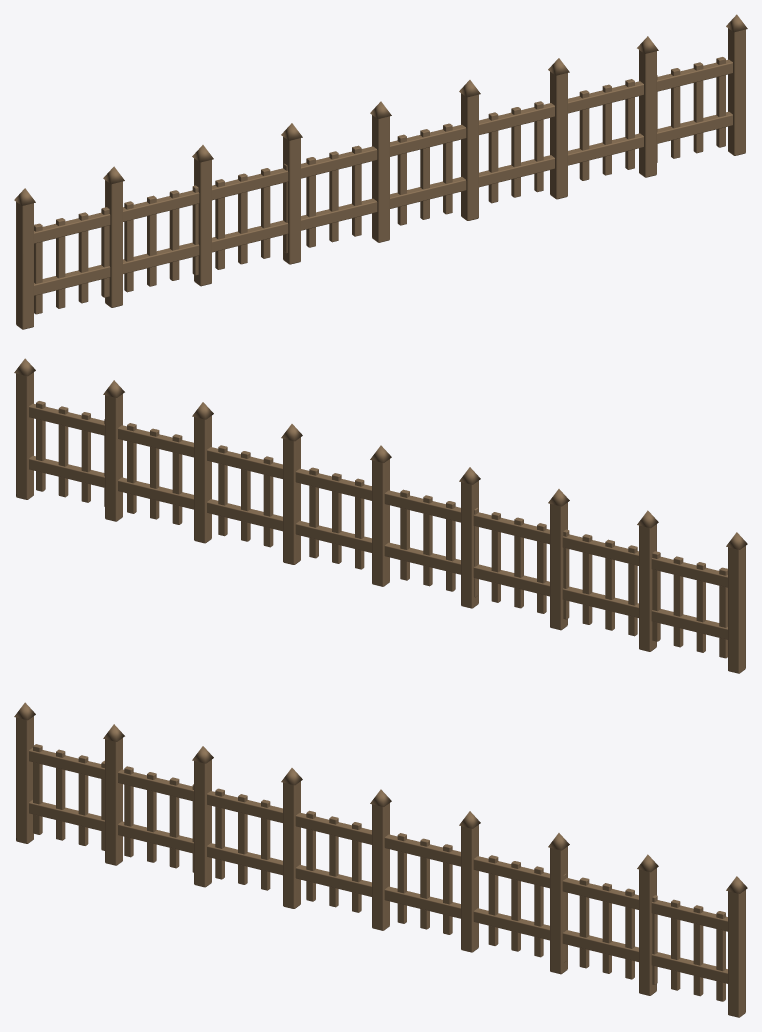
Rendered from Prop_Fence_10m_01_Detailed.fbx.
3 views of the same model, one above another, from view 1: azimuth 30°, elevation 25°; view 2: azimuth 150°, elevation 25°; view 3: azimuth 330°, elevation 25° (orthographic).
Visible parts, largest first — view 1: Prop_Fence_10m_01, Prop_Fence_10m_01_Rail_0.48, Prop_Fence_10m_01_Rail_1.18; view 2: Prop_Fence_10m_01, Prop_Fence_10m_01_Rail_0.48, Prop_Fence_10m_01_Rail_1.18; view 3: Prop_Fence_10m_01, Prop_Fence_10m_01_Rail_0.48, Prop_Fence_10m_01_Rail_1.18.
Boxes of the visible parts, bbox=[...] form: Prop_Fence_10m_01: bbox=[14, 14, 747, 329]; Prop_Fence_10m_01_Rail_0.48: bbox=[34, 111, 732, 295]; Prop_Fence_10m_01_Rail_1.18: bbox=[34, 59, 732, 243]; Prop_Fence_10m_01: bbox=[14, 358, 747, 673]; Prop_Fence_10m_01_Rail_0.48: bbox=[29, 455, 727, 639]; Prop_Fence_10m_01_Rail_1.18: bbox=[29, 403, 727, 587]; Prop_Fence_10m_01: bbox=[14, 702, 747, 1017]; Prop_Fence_10m_01_Rail_0.48: bbox=[29, 800, 727, 983]; Prop_Fence_10m_01_Rail_1.18: bbox=[29, 748, 727, 931].
Bounding box in the file's own units: 1020 × 186 × 19.8.
